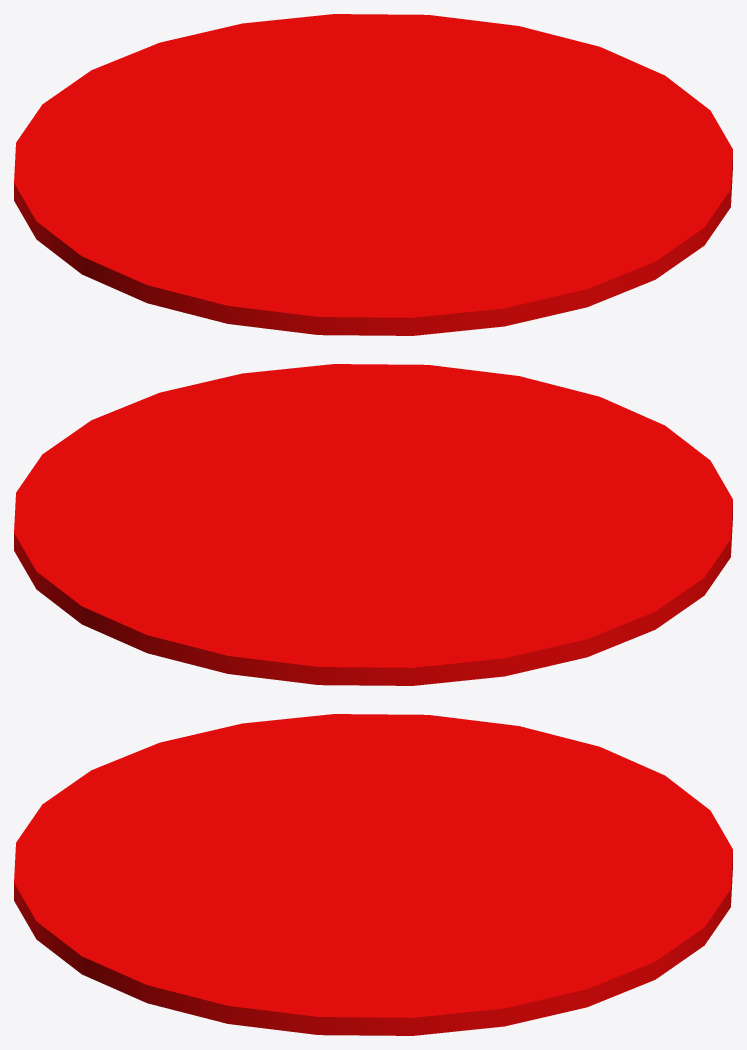
The model's file is red.glb.
3 renders of one model, top to bottom at view 1: azimuth 30°, elevation 25°; view 2: azimuth 150°, elevation 25°; view 3: azimuth 270°, elevation 25°, orthographic.
Parts seen in each view (by area): view 1: Model; view 2: Model; view 3: Model.
Boxes of the visible parts, x1,y1,x2,y2 form: Model: (14, 14, 732, 335); Model: (14, 364, 732, 685); Model: (14, 714, 732, 1035).
Size of the model in its own units: 184 by 5.12 by 184.
